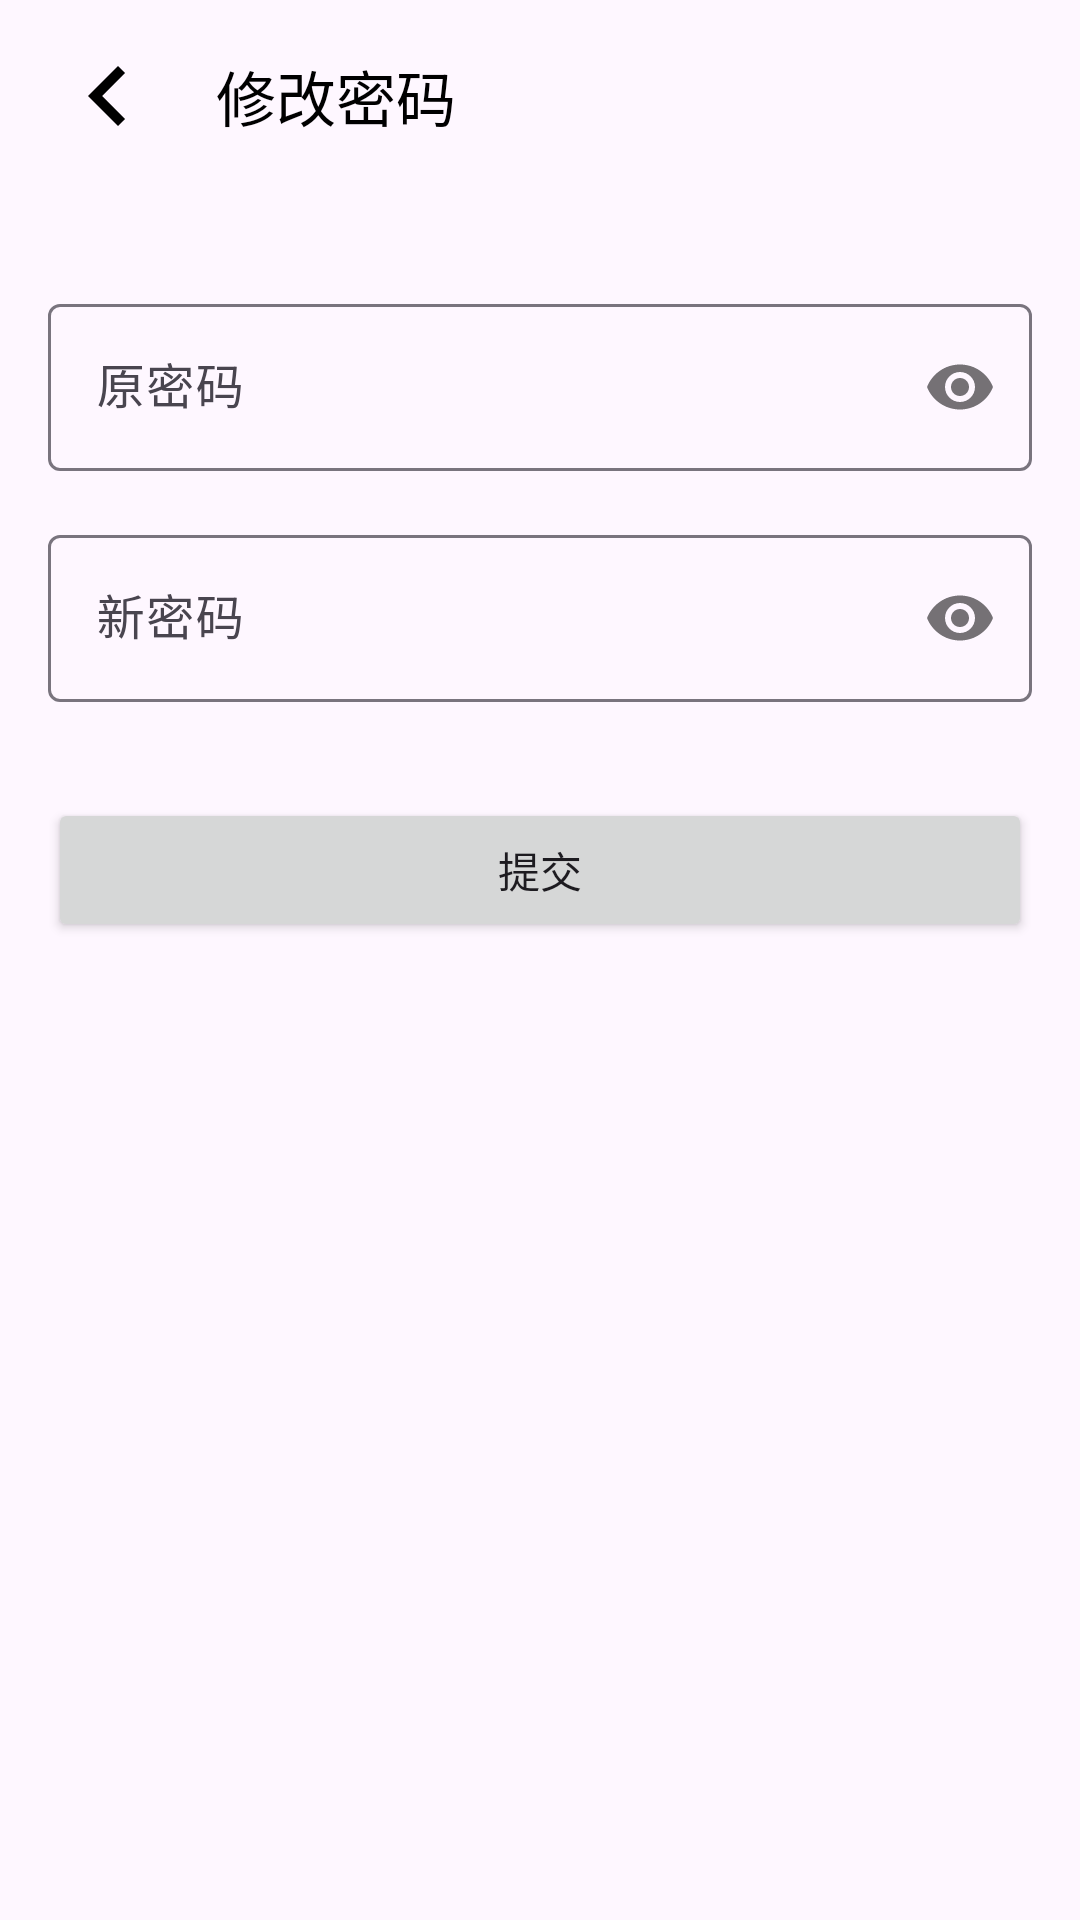

Where icons sit on this 1080px x 1920px app screen, as bbox=(x1, y1, x2, y2):
返回: bbox=(88, 66, 125, 126)
